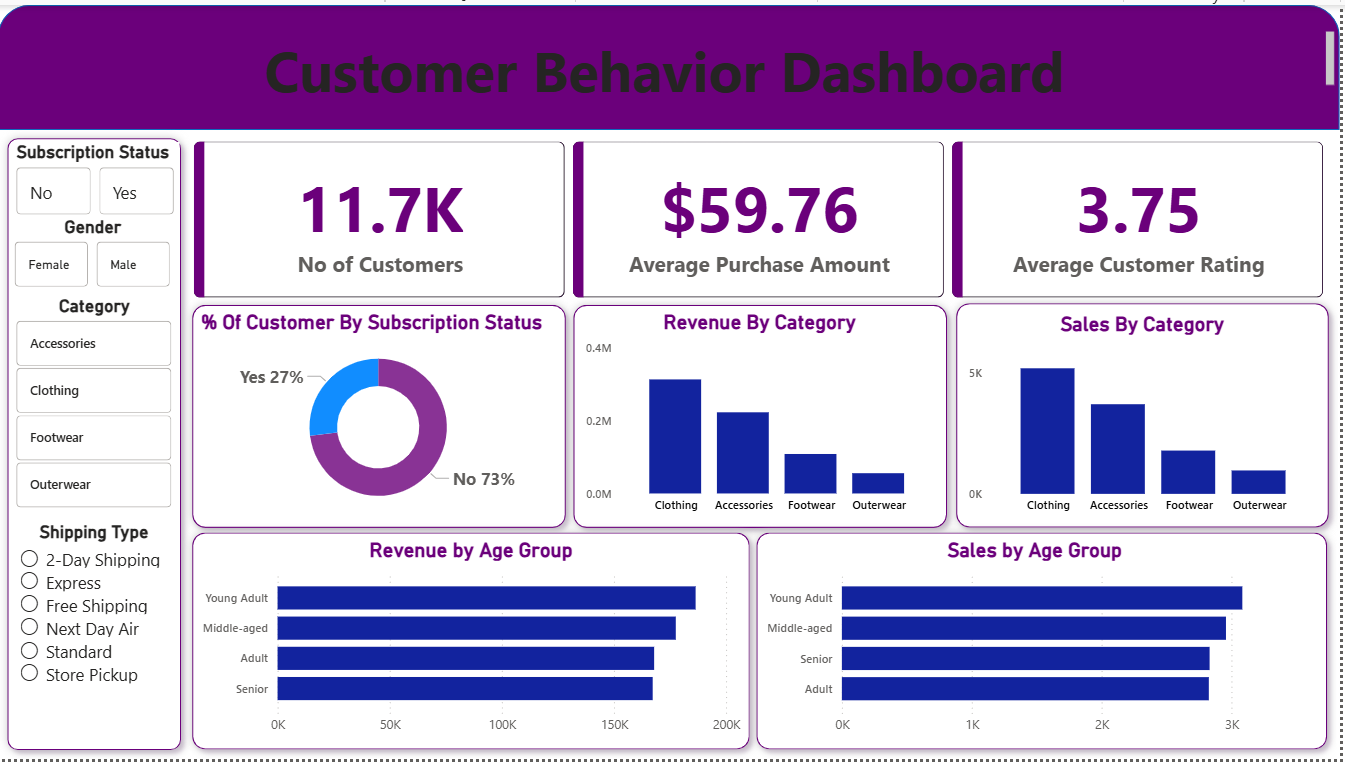

The page's visual inventory and layout, read from the dashboard file:
{"tool":"powerbi","page":{"name":"Page 1","canvas":[1280,720],"ordinal":0},"visuals":[{"type":"cardVisual","fields":{"Data":["customer.No of Customers","customer.Average Purchase Amount","customer.Average Customer Rating"]},"box":[175.5,118.9,1103.8,173.6],"z":0},{"type":"shape","box":[0,0,1280.3,119.3],"z":1000},{"type":"textbox","box":[0,21,1280.3,77.2],"z":2000},{"type":"shape","box":[176.4,276.4,374.5,230.9],"z":3000},{"type":"donutChart","title":"% Of Customer By Subscription Status","fields":{"Category":["customer.subscription_status"],"Y":["customer.No of Customers"]},"box":[189.1,290.9,348,201.8],"z":4000},{"type":"shape","box":[905.7,275.5,373.6,232.1],"z":5000},{"type":"shape","box":[540,276.4,374.5,230.9],"z":6000},{"type":"clusteredColumnChart","title":"Revenue By Category","fields":{"Category":["customer.category"],"Y":["Sum(customer.purchase_amount)"]},"box":[556.4,290.9,342,203],"z":7000},{"type":"clusteredColumnChart","title":"Sales By Category","fields":{"Category":["customer.category"],"Y":["CountNonNull(customer.customer_id)"]},"box":[921.8,292.7,341.8,201.8],"z":8000},{"type":"shape","box":[0,118.2,183.6,602],"z":9000},{"type":"advancedSlicerVisual","title":"Subscription Status","fields":{"Values":["customer.subscription_status"]},"box":[12.5,130.4,160.7,75],"z":10000},{"type":"advancedSlicerVisual","title":"Gender","fields":{"Values":["customer.gender"]},"box":[10.7,201.8,158.9,73.2],"z":11000},{"type":"advancedSlicerVisual","title":"Category","fields":{"Values":["customer.category"]},"box":[12.5,276.8,158.9,203.6],"z":12000},{"type":"listSlicer","title":"Shipping Type","fields":{"Values":["customer.shipping_type"]},"box":[16.1,492.9,151.8,210.7],"z":13000},{"type":"shape","box":[176.8,494.6,550,225],"z":14000},{"type":"shape","box":[714.3,494.6,562.5,225],"z":15000},{"type":"clusteredBarChart","title":"Revenue by Age Group","fields":{"Category":["customer.age_group"],"Y":["Sum(customer.purchase_amount)"]},"box":[189.3,508.9,525,196.4],"z":16000},{"type":"clusteredBarChart","title":"Sales by Age Group","fields":{"Category":["customer.age_group"],"Y":["CountNonNull(customer.customer_id)"]},"box":[727.1,508.5,523.7,196.6],"z":17000}]}

Visuals, with their boxes in screenshot pixels (x1, y1, x2, y2), scaled from the page's 1280x720 canvas onto the 1345x769 screenshot:
cardVisual - customer.No of Customers x customer.Average Purchase Amount: (left=184, top=127, right=1344, bottom=312)
shape: (left=0, top=0, right=1344, bottom=127)
textbox: (left=0, top=22, right=1344, bottom=105)
shape: (left=185, top=295, right=579, bottom=542)
"% Of Customer By Subscription Status" donutChart: (left=199, top=311, right=564, bottom=526)
shape: (left=952, top=294, right=1344, bottom=542)
shape: (left=567, top=295, right=961, bottom=542)
"Revenue By Category" clusteredColumnChart: (left=585, top=311, right=944, bottom=528)
"Sales By Category" clusteredColumnChart: (left=969, top=313, right=1328, bottom=528)
shape: (left=0, top=126, right=193, bottom=768)
"Subscription Status" advancedSlicerVisual: (left=13, top=139, right=182, bottom=219)
"Gender" advancedSlicerVisual: (left=11, top=216, right=178, bottom=294)
"Category" advancedSlicerVisual: (left=13, top=296, right=180, bottom=513)
"Shipping Type" listSlicer: (left=17, top=526, right=176, bottom=751)
shape: (left=186, top=528, right=764, bottom=768)
shape: (left=751, top=528, right=1342, bottom=768)
"Revenue by Age Group" clusteredBarChart: (left=199, top=544, right=751, bottom=753)
"Sales by Age Group" clusteredBarChart: (left=764, top=543, right=1314, bottom=753)
